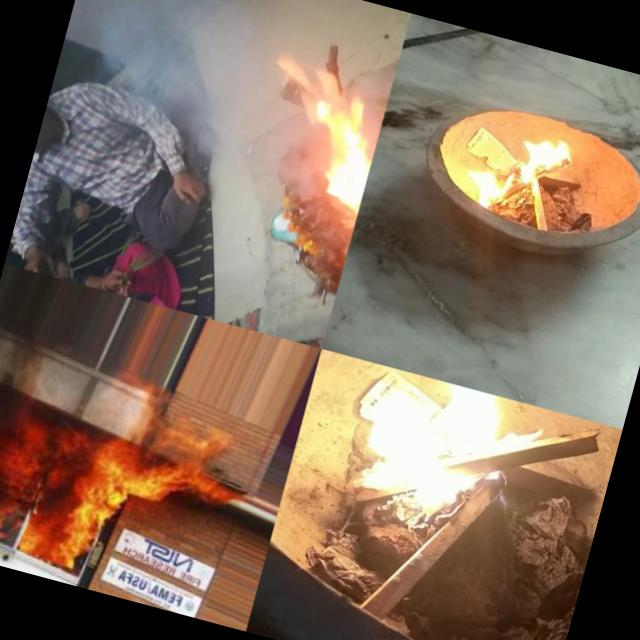fire: (318, 358, 530, 558), (126, 189, 292, 333), (447, 98, 578, 240), (41, 422, 148, 582), (0, 412, 77, 561), (132, 440, 253, 527), (117, 372, 235, 459), (0, 414, 17, 538)
smoke: (178, 60, 386, 241), (269, 0, 410, 104), (0, 323, 49, 429)
